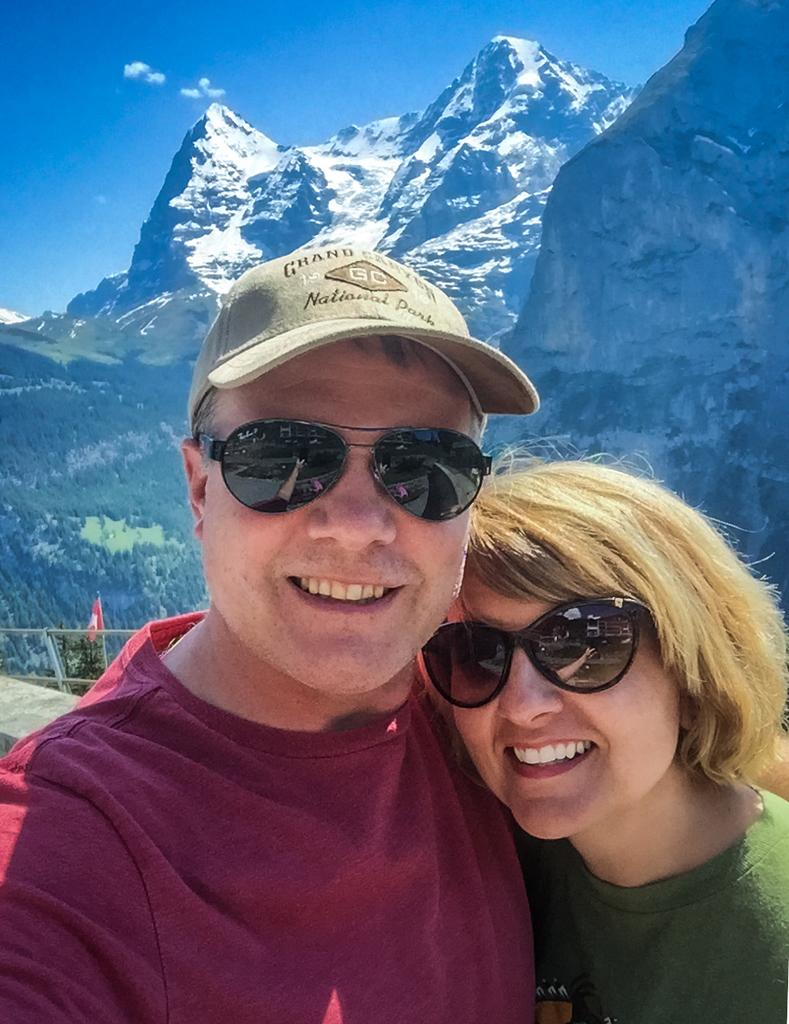Hat: (189, 237, 536, 422)
